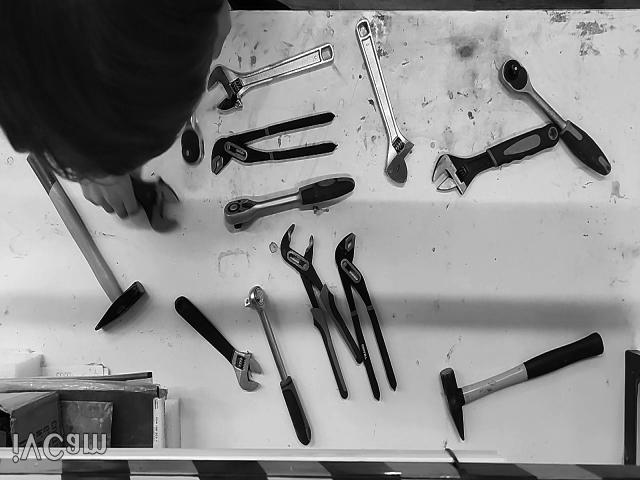Adjustable spanner: (356, 19, 414, 187), (432, 123, 560, 195), (208, 43, 334, 115), (175, 297, 262, 392), (131, 178, 179, 233)
Gas wrench: (280, 225, 362, 400), (335, 234, 398, 402), (211, 114, 336, 175)
Hammer: (26, 151, 144, 330), (440, 333, 604, 440)
Hand: (80, 168, 141, 218)
Ratchet: (499, 61, 611, 175), (245, 288, 311, 445), (224, 178, 355, 229), (181, 112, 204, 167)
